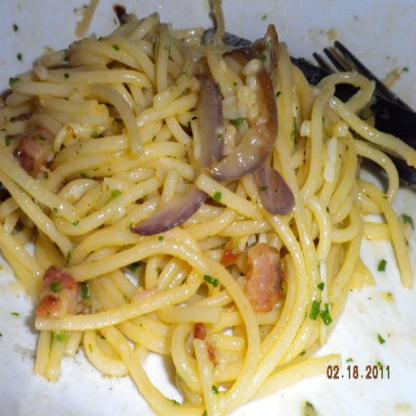pasta: (0, 20, 381, 415)
